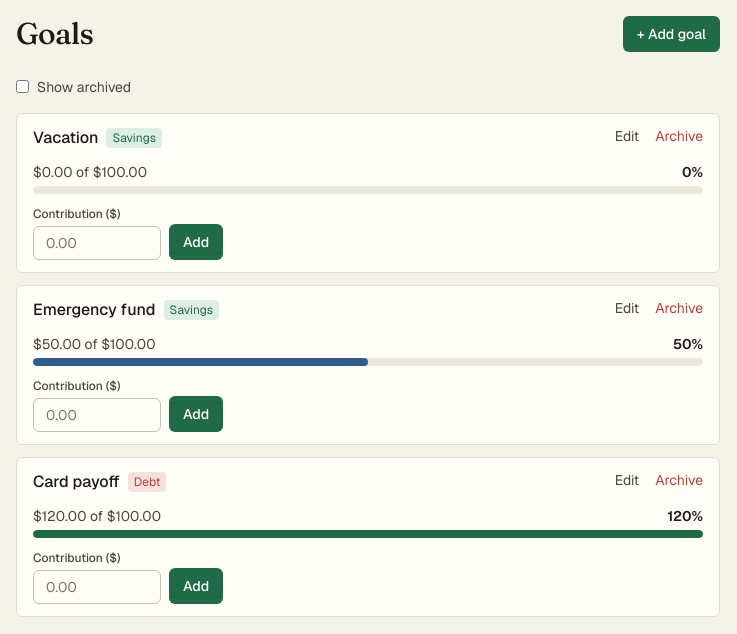
GoalsPage › archives a goal and drops it from the active list
Check: the element "Emergency fund" is shown, box [16,284,720,444]
Step 1. Click the button "Archive" in the row of "Emergency fund" → (679, 308), box [655,298,703,318]
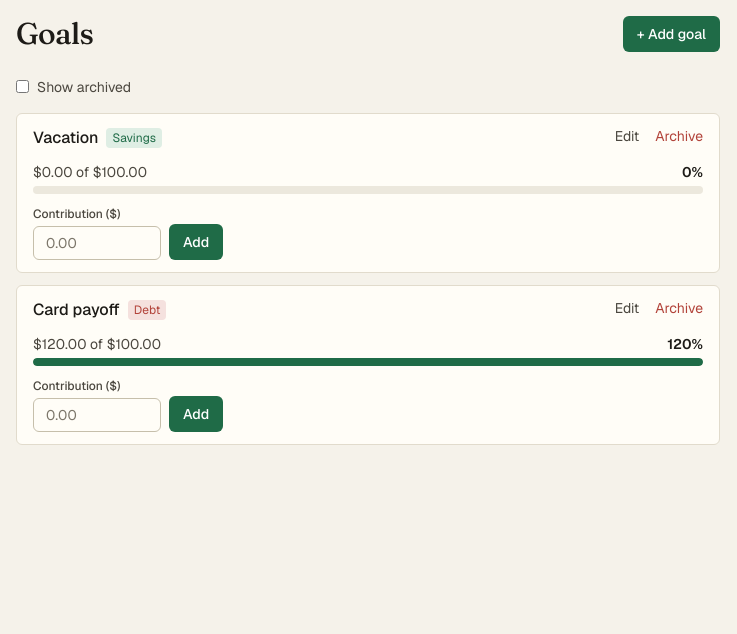
Check: the heading "Emergency fund" is gone
